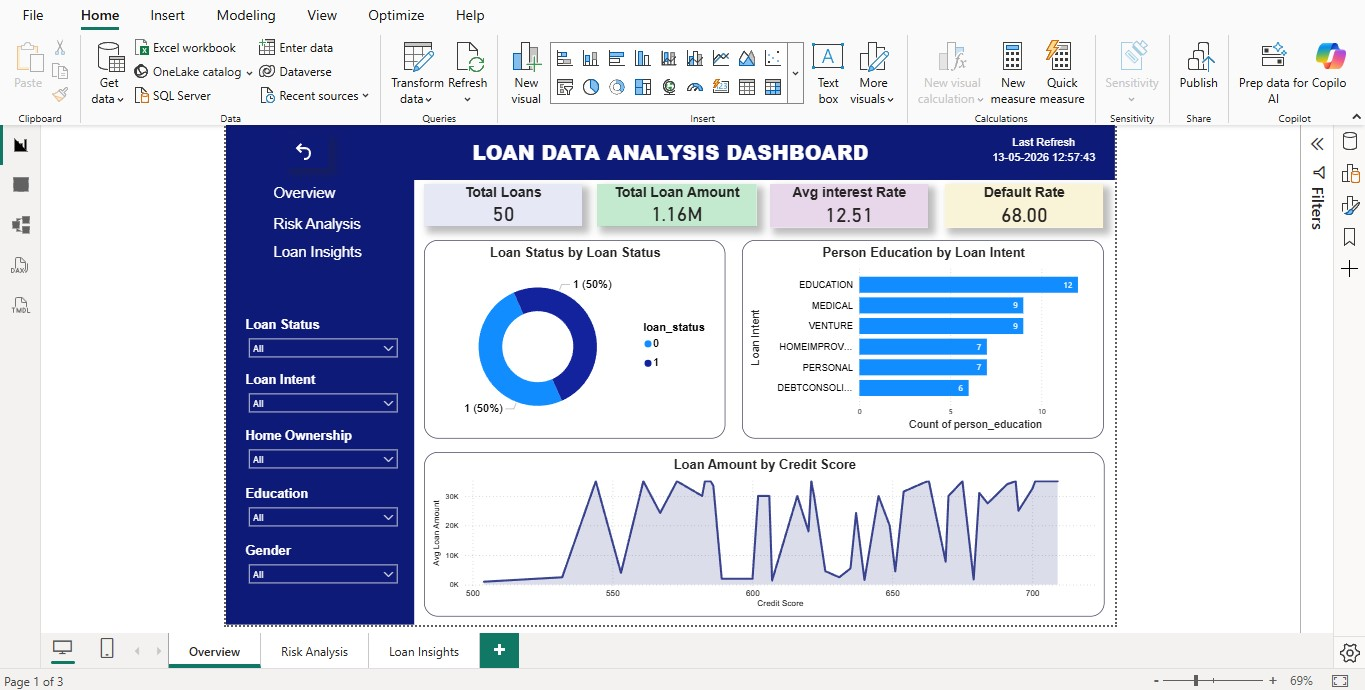

This screenshot's page, from the dashboard's own definition file:
{"tool":"powerbi","page":{"name":"Overview","canvas":[1280,720],"ordinal":0},"visuals":[{"type":"group","id":"g1","title":"Group 1","box":[0,-0.9,1280.2,720.9],"z":0},{"type":"shape","box":[0,-0.9,1280.2,80.6],"z":0,"group":"g1"},{"type":"shape","box":[0,-0.9,271.5,720.9],"z":1000,"group":"g1"},{"type":"card","title":"Last Refresh","fields":{"Values":["Min(Last Refresh.Last Refresh)"]},"box":[1076.2,16.1,203.8,48.3],"z":1000},{"type":"slicer","title":"Loan Status","fields":{"Values":["loan_data_set.loan_status"]},"box":[23.4,276.8,233.7,66.5],"z":2000},{"type":"slicer","title":"Loan Intent","fields":{"Values":["loan_data_set.loan_intent"]},"box":[23.4,355.9,233.7,66.5],"z":3000},{"type":"slicer","title":"Home Ownership","fields":{"Values":["loan_data_set.person_home_ownership"]},"box":[23.4,436.8,233.7,66.5],"z":4000},{"type":"slicer","title":"Education","fields":{"Values":["loan_data_set.person_education"]},"box":[23.4,519.5,233.7,66.5],"z":5000},{"type":"slicer","title":"Gender","fields":{"Values":["loan_data_set.person_gender"]},"box":[23.4,602.2,233.7,66.5],"z":6000},{"type":"textbox","box":[63.3,80,193.3,43.3],"z":7000},{"type":"textbox","box":[63.3,125,193.3,40],"z":8000},{"type":"textbox","box":[63.3,165,193.3,40],"z":9000},{"type":"actionButton","box":[60,80,130,40],"z":10000},{"type":"actionButton","box":[63.4,133.9,168.5,31.7],"z":11000},{"type":"actionButton","box":[63.3,170,126.7,28.3],"z":12000},{"type":"card","title":"Total Loans","fields":{"Values":["Last Refresh.Total loans"]},"box":[284.4,84.3,228.3,61.5],"z":13000},{"type":"card","title":"Total Loan Amount","fields":{"Values":["Last Refresh.Total Loan"]},"box":[533.8,84.3,230,61.5],"z":14000},{"type":"card","title":"Avg interest Rate","fields":{"Values":["Last Refresh.avg int rate"]},"box":[783.1,84.3,228.3,63.2],"z":15000},{"type":"card","title":"Default Rate","fields":{"Values":["Last Refresh.Default Rt"]},"box":[1035.9,84.3,228.3,63.2],"z":16000},{"type":"donutChart","title":"Loan Status by Loan Status","fields":{"Category":["loan_data_set.loan_status"],"Y":["Count(loan_data_set.loan_status)"]},"box":[284.4,165,433.7,286.2],"z":17000},{"type":"barChart","title":"Person Education by Loan Intent","fields":{"Category":["loan_data_set.loan_intent"],"Y":["CountNonNull(loan_data_set.person_education)"]},"box":[742.7,165,521.5,286.2],"z":18000},{"type":"lineChart","title":" Loan Amount by Credit Score","fields":{"Category":["loan_data_set.credit_score"],"Y":["Avg(loan_data_set.loan_amnt)"]},"box":[284.4,470.6,979.8,237],"z":19000},{"type":"actionButton","box":[87.8,14,59.7,47.4],"z":20000}]}

Visuals, with their boxes on the page's 1280x720 design canvas (x1, y1, x2, y2). These are canvas units, not pixel positions in the 1365x690 screenshot, which may show the page scaled, cropped or inside an application window:
"Group 1" group: box(0, -1, 1280, 720)
shape: box(0, -1, 1280, 80)
shape: box(0, -1, 272, 720)
"Last Refresh" card: box(1076, 16, 1280, 64)
"Loan Status" slicer: box(23, 277, 257, 343)
"Loan Intent" slicer: box(23, 356, 257, 422)
"Home Ownership" slicer: box(23, 437, 257, 503)
"Education" slicer: box(23, 520, 257, 586)
"Gender" slicer: box(23, 602, 257, 669)
textbox: box(63, 80, 257, 123)
textbox: box(63, 125, 257, 165)
textbox: box(63, 165, 257, 205)
actionButton: box(60, 80, 190, 120)
actionButton: box(63, 134, 232, 166)
actionButton: box(63, 170, 190, 198)
"Total Loans" card: box(284, 84, 513, 146)
"Total Loan Amount" card: box(534, 84, 764, 146)
"Avg interest Rate" card: box(783, 84, 1011, 148)
"Default Rate" card: box(1036, 84, 1264, 148)
"Loan Status by Loan Status" donutChart: box(284, 165, 718, 451)
"Person Education by Loan Intent" barChart: box(743, 165, 1264, 451)
" Loan Amount by Credit Score" lineChart: box(284, 471, 1264, 708)
actionButton: box(88, 14, 148, 61)
